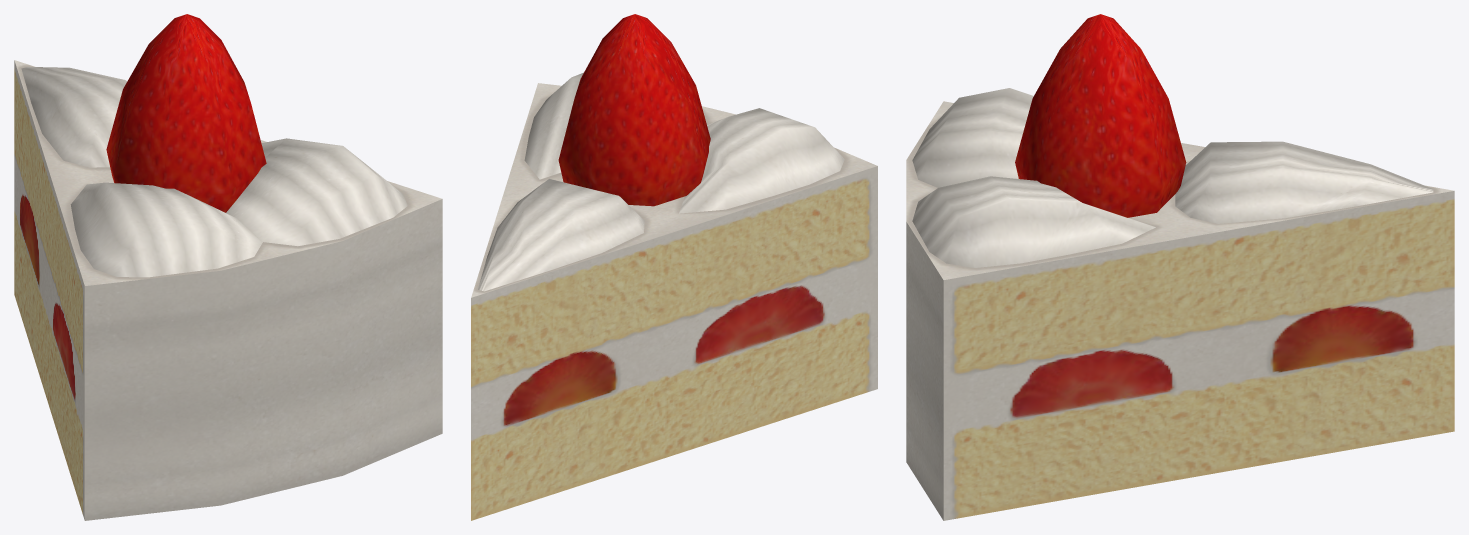
The model's file is ShortCake.fbx.
3 views of the same model, side by side, from view 1: azimuth 30°, elevation 25°; view 2: azimuth 150°, elevation 25°; view 3: azimuth 270°, elevation 25° (orthographic). The views are drawn at different scales.
Parts seen in each view (by area): view 1: Empty_Mesh; view 2: Empty_Mesh; view 3: Empty_Mesh.
Boxes of the visible parts, x1,y1,x2,y2 form: Empty_Mesh: (14,14,442,520); Empty_Mesh: (471,14,877,520); Empty_Mesh: (906,14,1454,520).
Size of the model in its own units: 0.3827 by 0.4162 by 0.4957.
